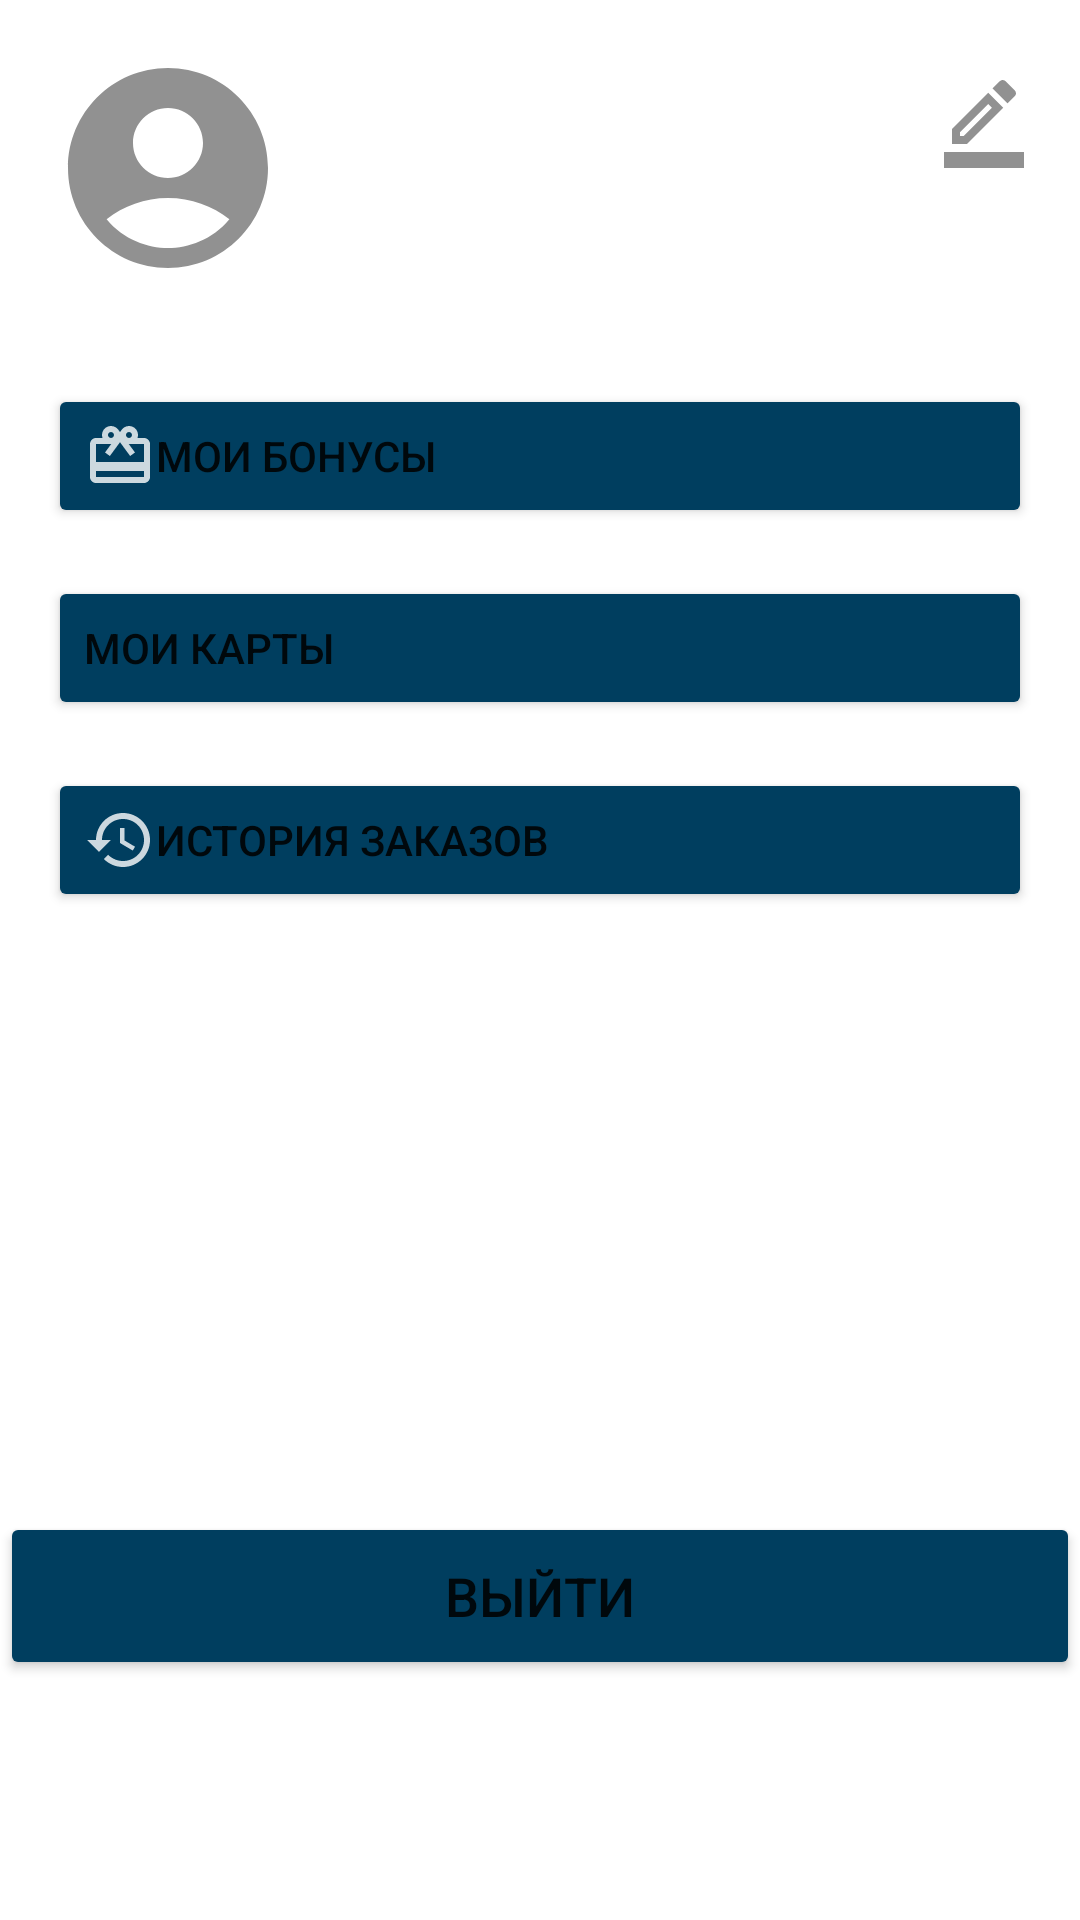

Icon click points for this 1080×1920 phone screenshot, format [x,y]:
edit profile: [984,124]
user: [168,168]
